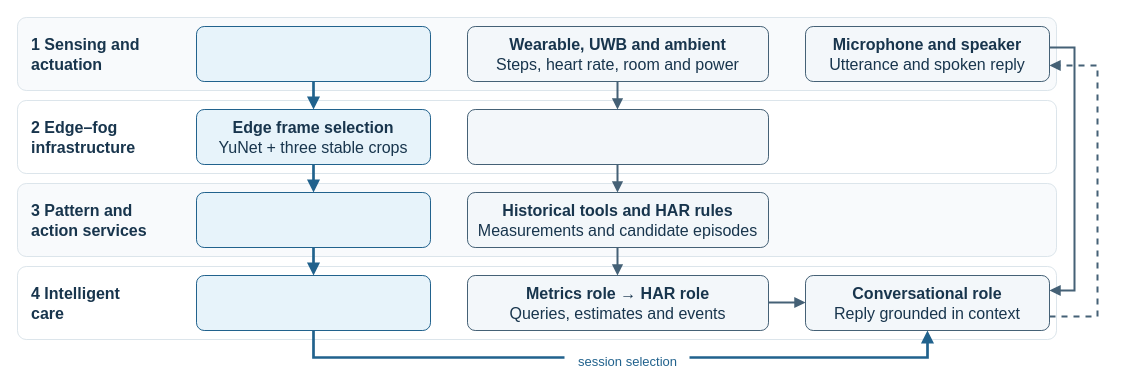
The diagram is 1124 pixels wide and 388 high, and some of its shapes have lost their labels. The centre of each missing label's shape, as x and y in pixels:
"Face matching FaceNet + cosine + 2 of 3" belongs at [313,220].
"Local fog node MQTT, Home Assistant, sensor archive" belongs at [617,136].
"Reachy Mini camera Face frames" belongs at [313,54].
"User session Matched identity or unknown" belongs at [313,302].
